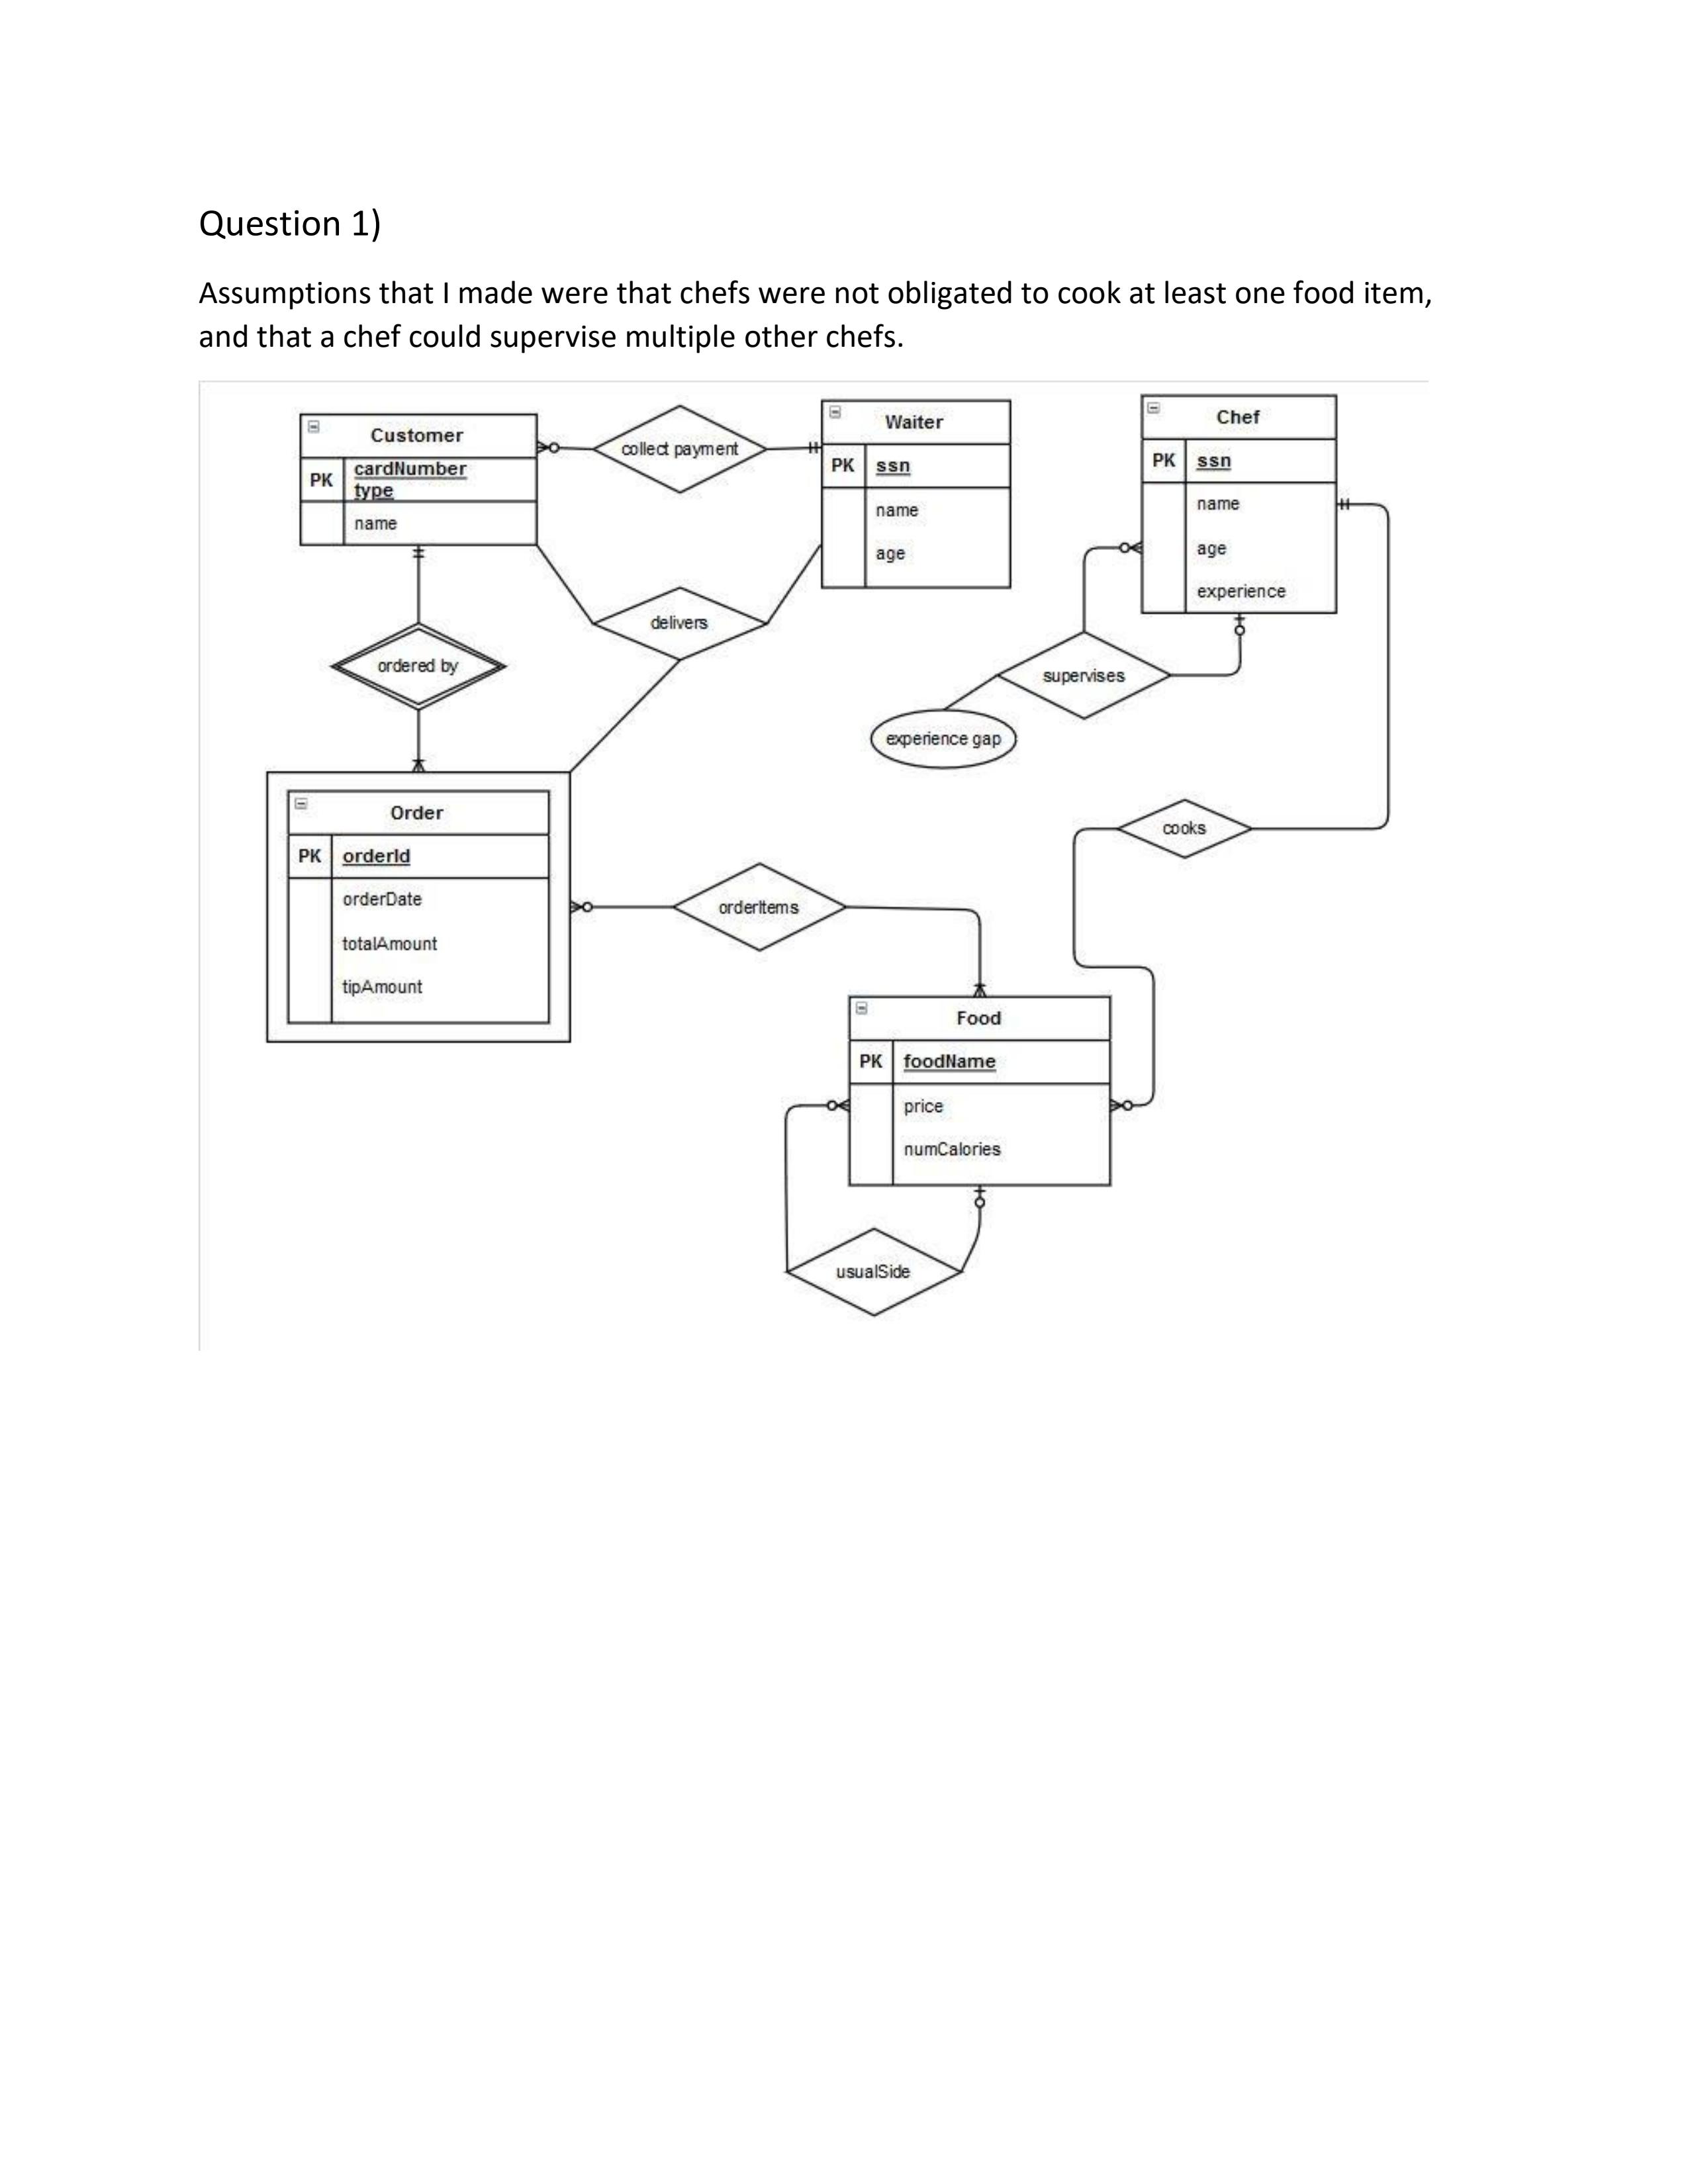Attribute: (869, 709, 1018, 771)
Entity: (285, 789, 551, 1026), (848, 993, 1114, 1188), (1140, 394, 1339, 613), (819, 399, 1012, 590), (298, 413, 539, 546)
Relationship: (330, 622, 507, 711), (592, 404, 766, 495), (996, 631, 1170, 720), (787, 1228, 965, 1315), (674, 862, 846, 950), (594, 585, 768, 661), (1117, 798, 1252, 858)
